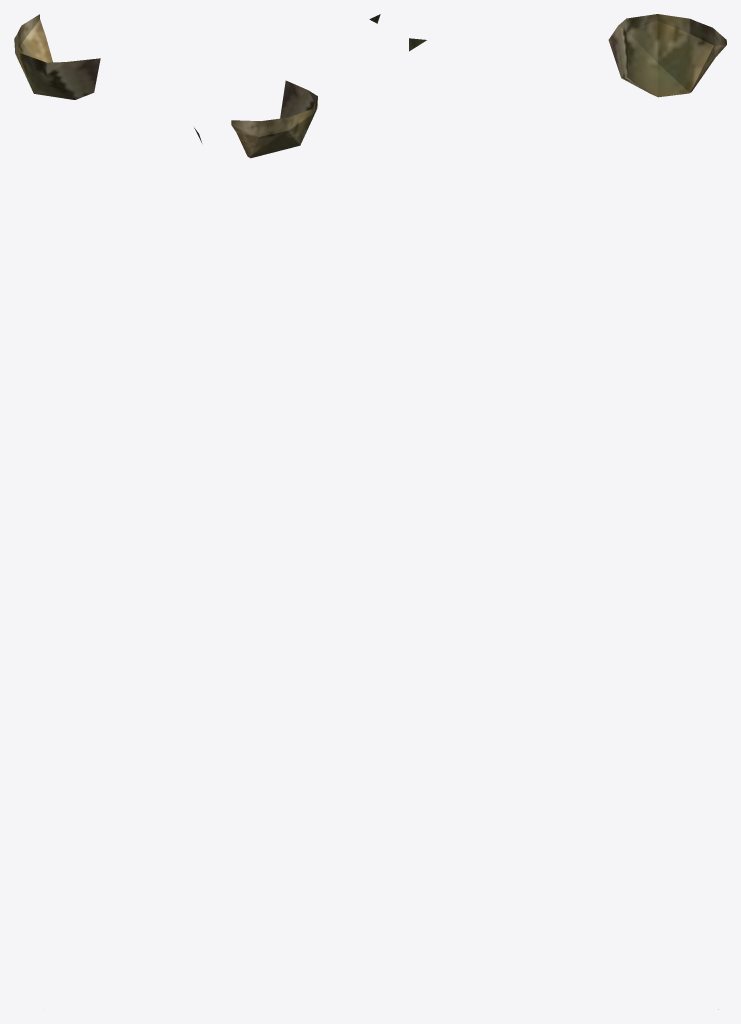
3 renders of one model, left to right at view 1: azimuth 30°, elevation 25°; view 2: azimuth 150°, elevation 25°; view 3: azimuth 270°, elevation 25°, orthographic. The views are drawn at different scales.
Size of the model in its own units: 0.1576 by 2.74 by 0.8142.
1 material, 1 textured.
